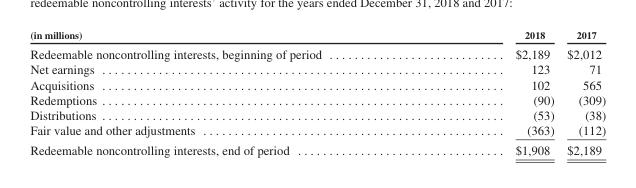table: (29, 28, 605, 157)
table column: (29, 28, 417, 157), (417, 28, 559, 157), (559, 28, 605, 157)
table column header: (29, 28, 605, 43)
table row: (29, 43, 605, 61), (29, 139, 605, 157), (29, 122, 605, 139), (29, 91, 605, 107), (29, 28, 605, 43), (29, 61, 605, 76), (29, 76, 605, 91), (29, 107, 605, 122)
